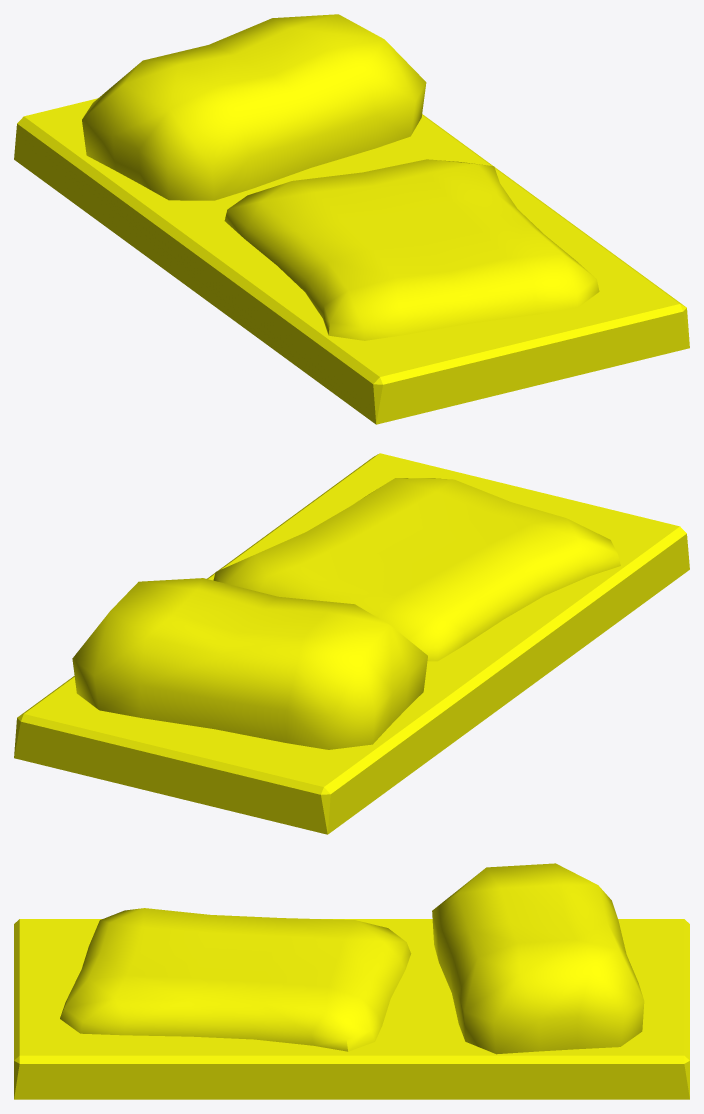
File: kaykit-bed-floor.glb
3 renders of one model, top to bottom at view 1: azimuth 30°, elevation 25°; view 2: azimuth 150°, elevation 25°; view 3: azimuth 270°, elevation 25°, orthographic. The views are drawn at different scales.
Parts seen in each view (by area): view 1: bed_floor; view 2: bed_floor; view 3: bed_floor.
Boxes of the visible parts, <box> form: bed_floor: <box>14,14,689,424</box>; bed_floor: <box>14,453,689,834</box>; bed_floor: <box>14,863,689,1099</box>.
Bounding box in the file's own units: 1.5 × 0.5625 × 3.
